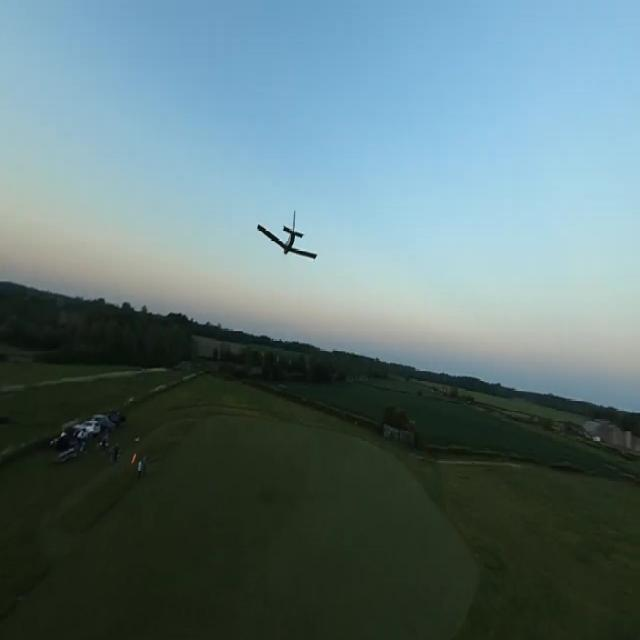iha: (255, 210, 319, 263)
